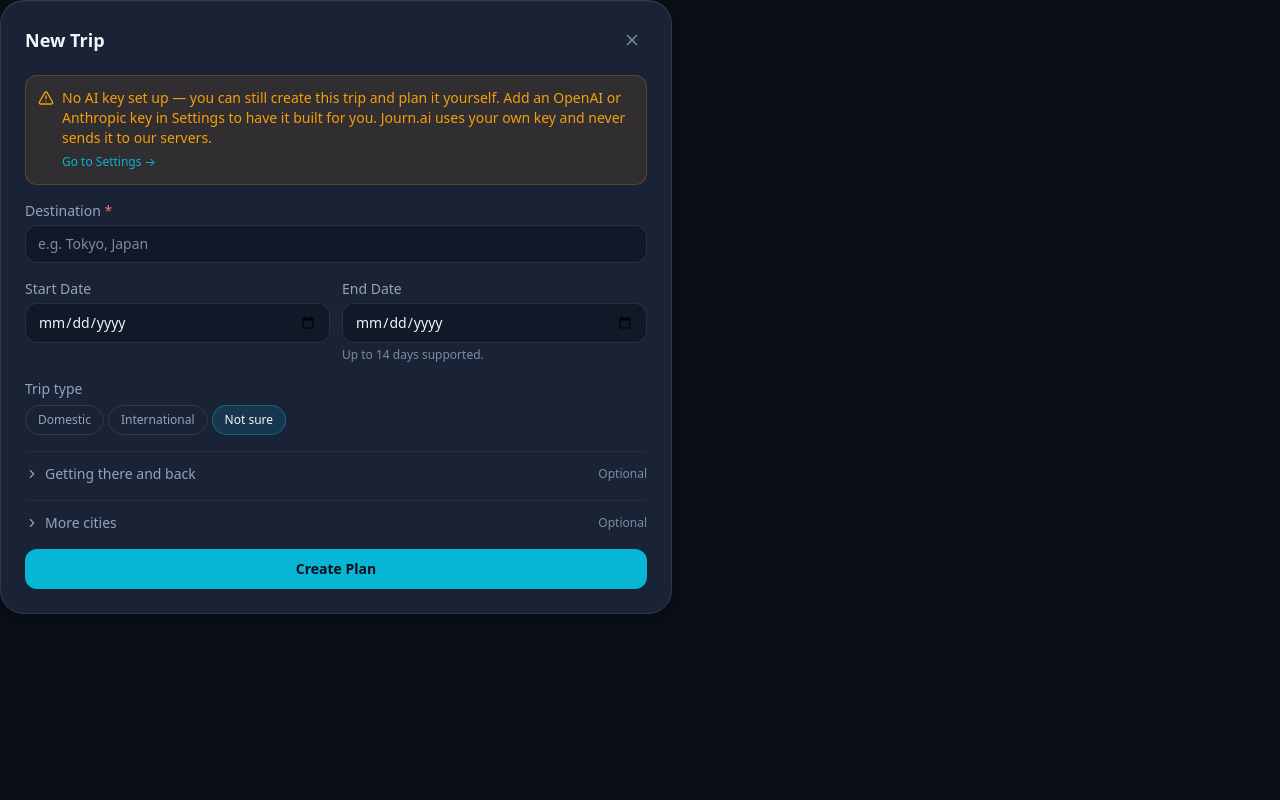
Test: choosing international › lands you at the airport when the city has none of its own
In the dropdown with test id "destination-input": (336, 244) [25,225,647,263], type "Kyoto, Japan"
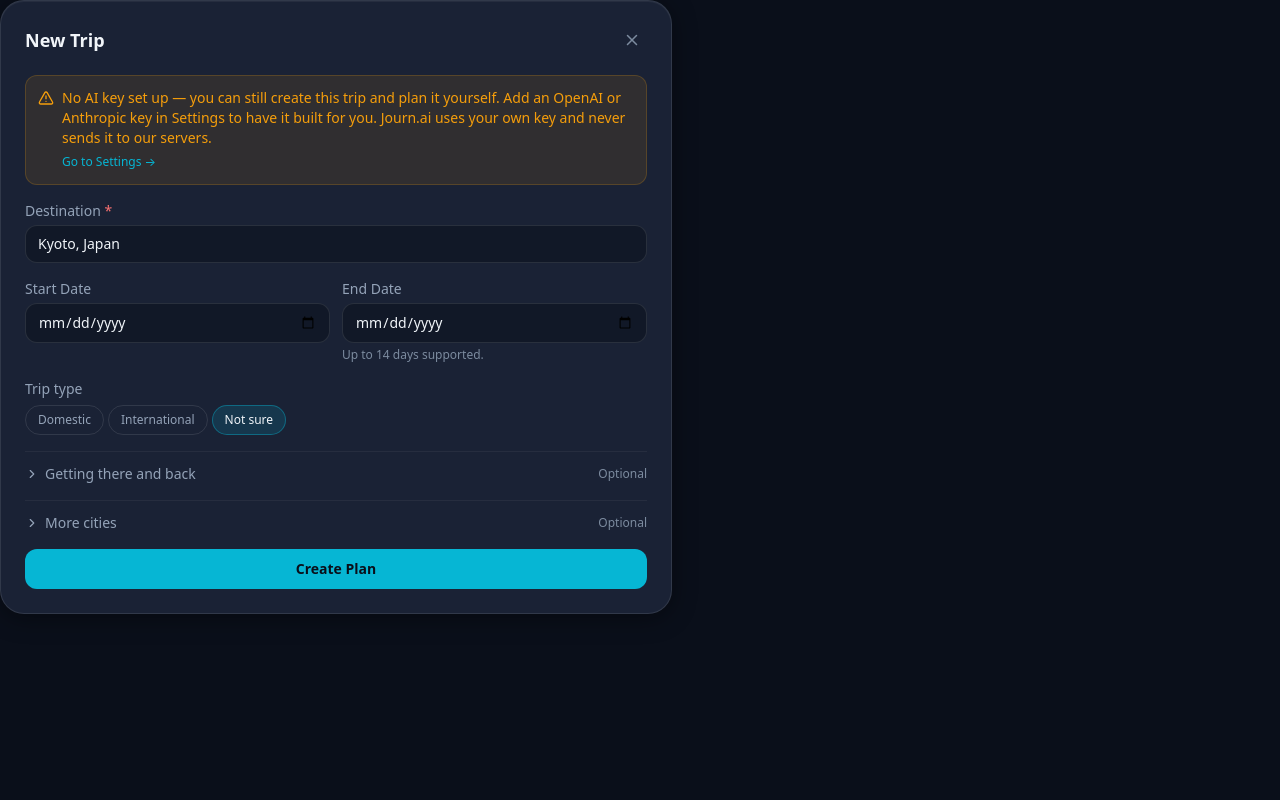
In the date field with test id "start-date-input": (178, 323) [25,303,330,343], type "2025-07-14"
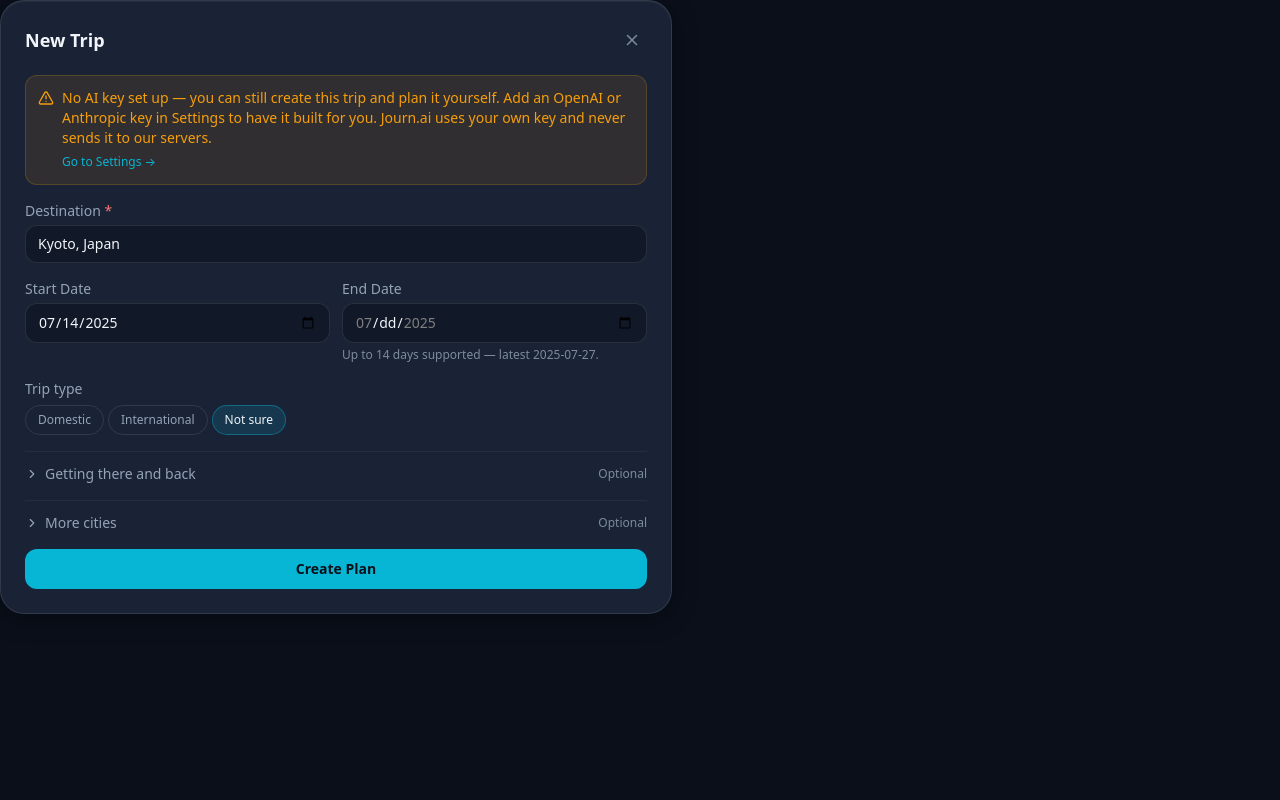
In the date field with test id "end-date-input": (494, 323) [342,303,647,343], type "2025-07-21"
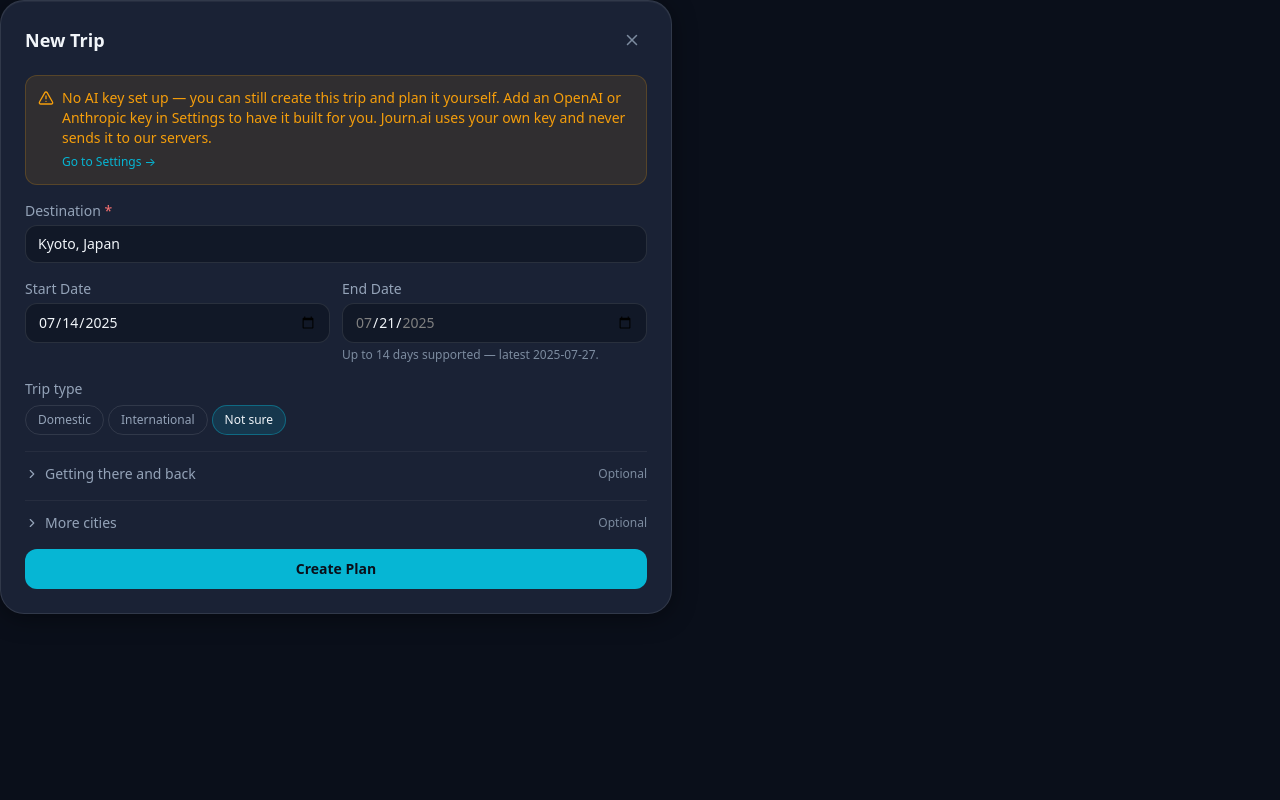
Click the button with test id "border-international": click(158, 420) [108,405,208,435]
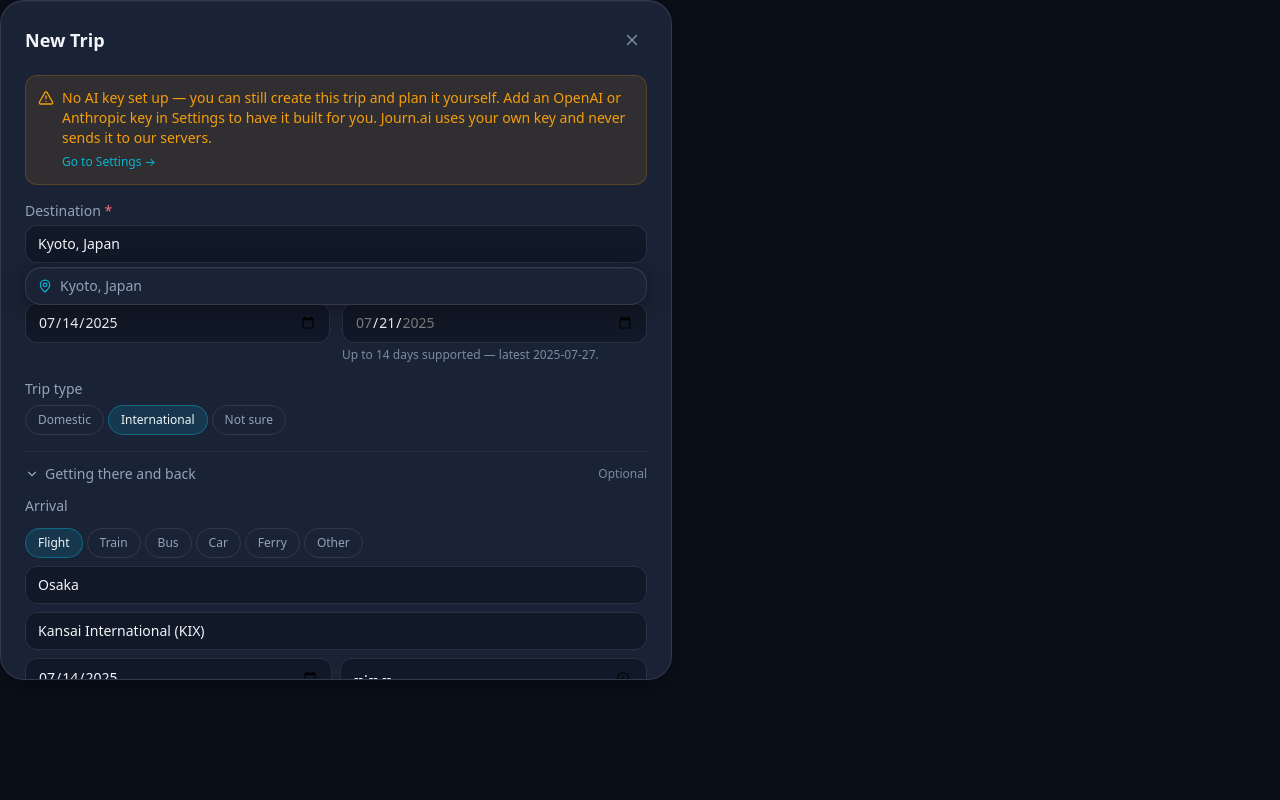
Check: the field with test id "arrival-city" holds "Osaka", box [25,566,647,604]
Check: the field with test id "arrival-airport" holds "Kansai International (KIX)", box [25,612,647,650]
